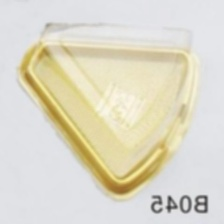plastic_box: (10, 12, 209, 207)
